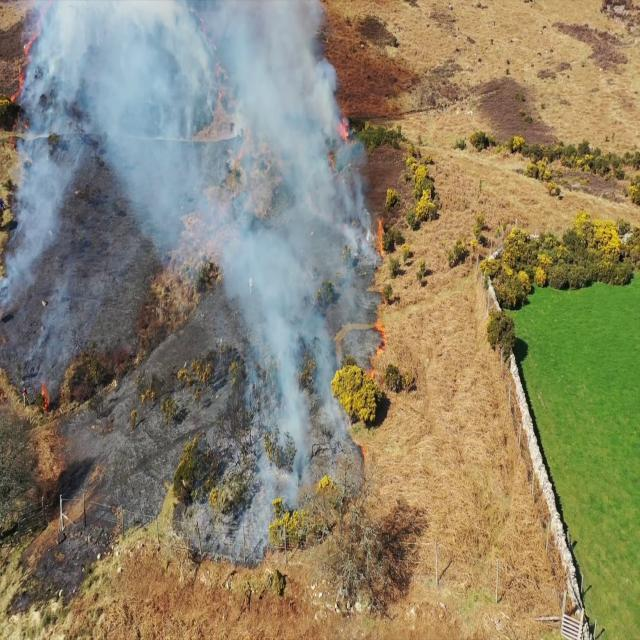Fire: (336, 108, 353, 153), (369, 218, 382, 263), (377, 322, 387, 356)
Smoke: (0, 0, 200, 310), (201, 2, 370, 265), (233, 233, 372, 495)
